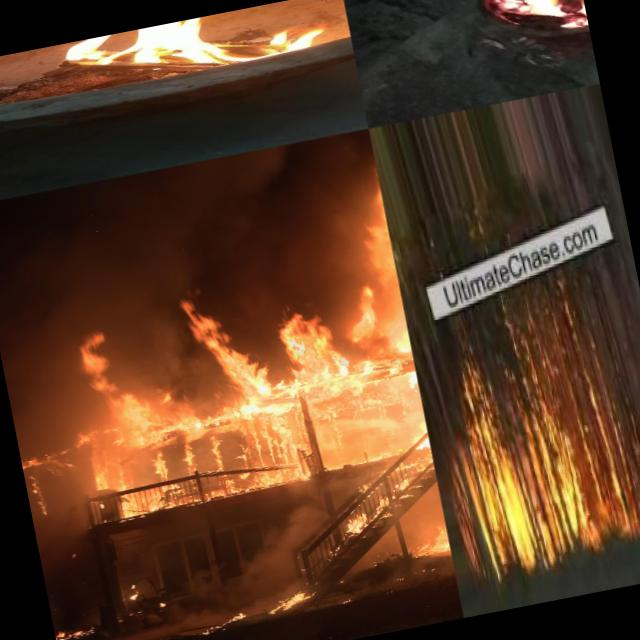fire: (46, 0, 332, 98), (100, 404, 322, 530), (176, 272, 350, 421), (448, 405, 610, 565), (322, 165, 414, 369), (62, 322, 192, 447), (373, 387, 434, 472), (366, 455, 442, 518), (19, 444, 72, 516), (603, 452, 640, 550), (326, 490, 380, 548), (478, 0, 545, 40), (199, 600, 256, 640), (270, 582, 319, 619), (414, 526, 452, 562), (53, 612, 101, 640)
